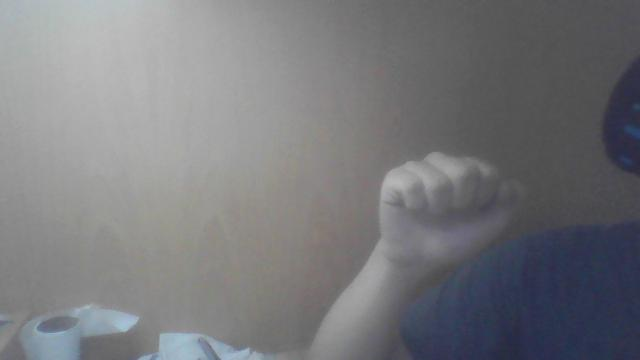forward: (377, 151, 523, 270)
